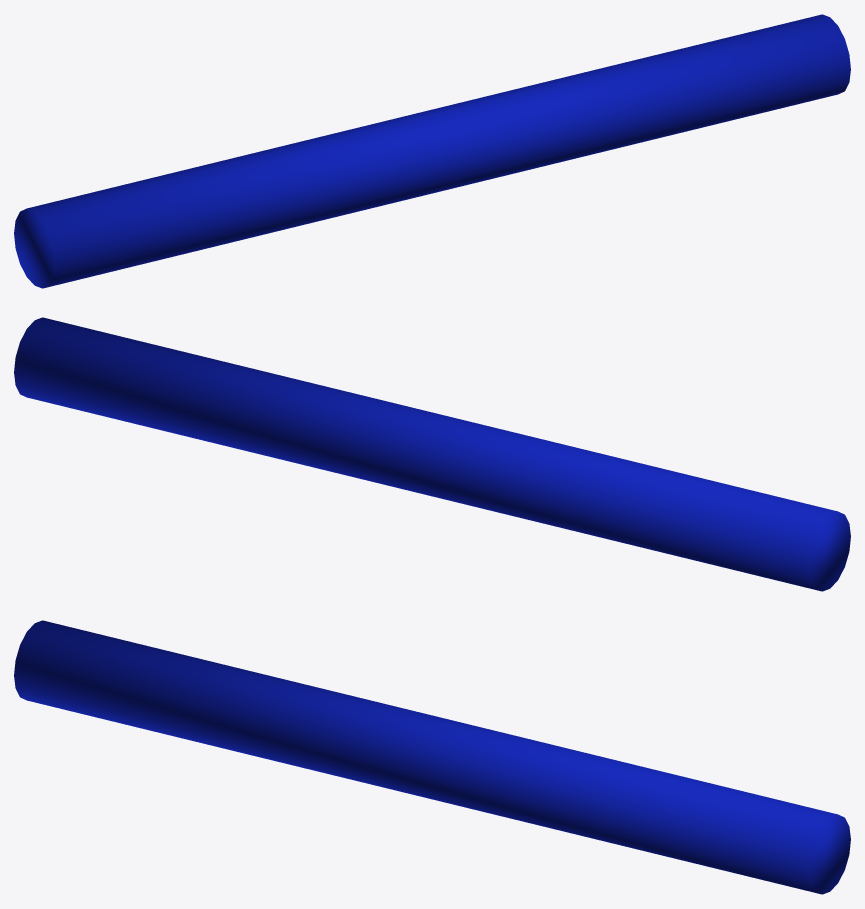
Rendered from cableBlue6.glb.
3 views of the same model, one above another, from view 1: azimuth 30°, elevation 25°; view 2: azimuth 150°, elevation 25°; view 3: azimuth 330°, elevation 25° (orthographic).
Visible parts, largest first — view 1: cableBlue6; view 2: cableBlue6; view 3: cableBlue6.
Part boxes in pixels (box(x1,y1,x2,y2)): cableBlue6: box(14, 14, 850, 288); cableBlue6: box(14, 317, 850, 591); cableBlue6: box(14, 620, 850, 894).
Bounding box in the file's own units: 2 × 0.1783 × 0.18.
